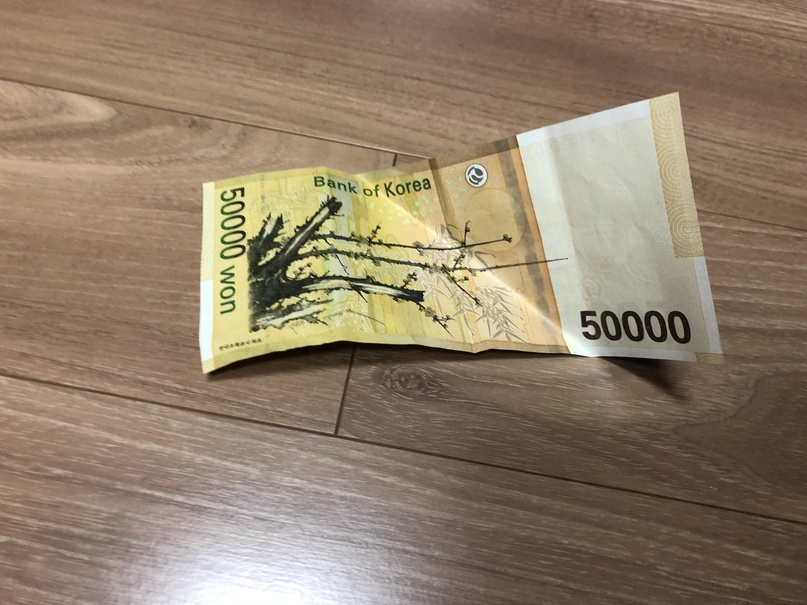50000won: (198, 91, 724, 374)
